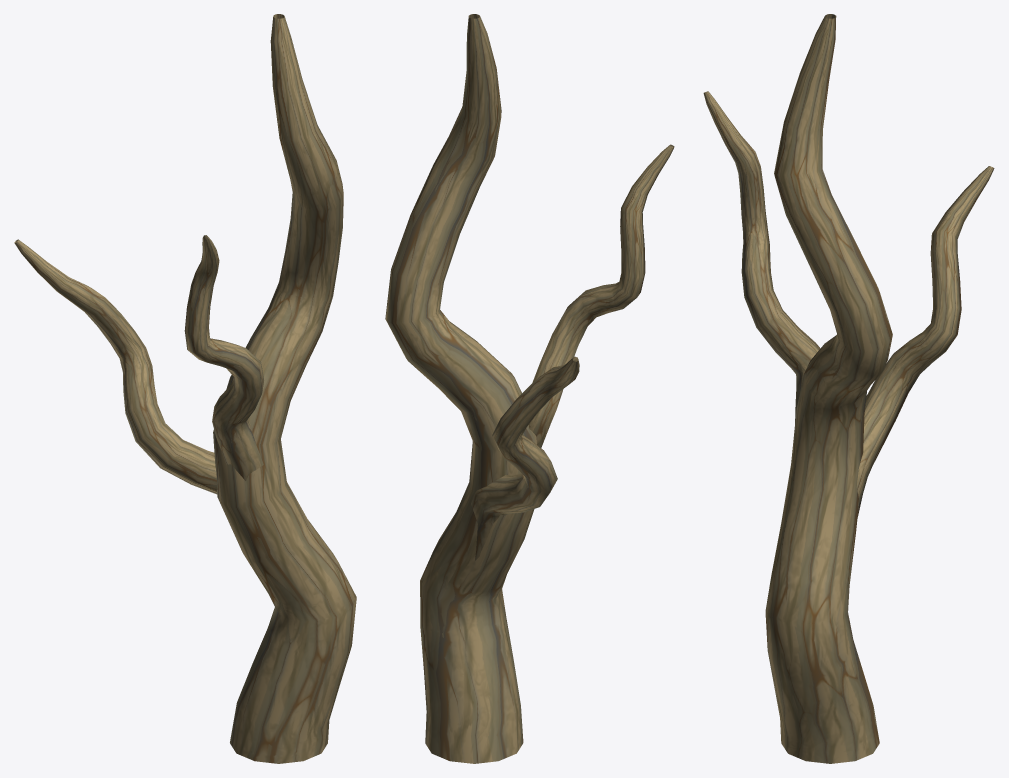
File: TreeTrunk.fbx
3 views of the same model, side by side, from view 1: azimuth 30°, elevation 25°; view 2: azimuth 150°, elevation 25°; view 3: azimuth 270°, elevation 25° (orthographic).
Visible parts, largest first — view 1: TreeTrunk; view 2: TreeTrunk; view 3: TreeTrunk.
Part boxes in pixels (x1=…): TreeTrunk: x1=14, y1=14, x2=356, y2=763; TreeTrunk: x1=385, y1=14, x2=674, y2=763; TreeTrunk: x1=703, y1=14, x2=994, y2=763.
Bounding box in the file's own units: 164 × 452 × 164.
